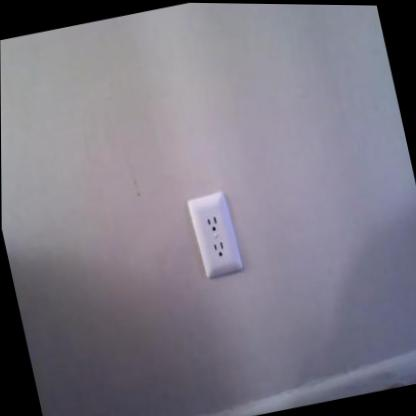OUTLET: (185, 189, 246, 282)
